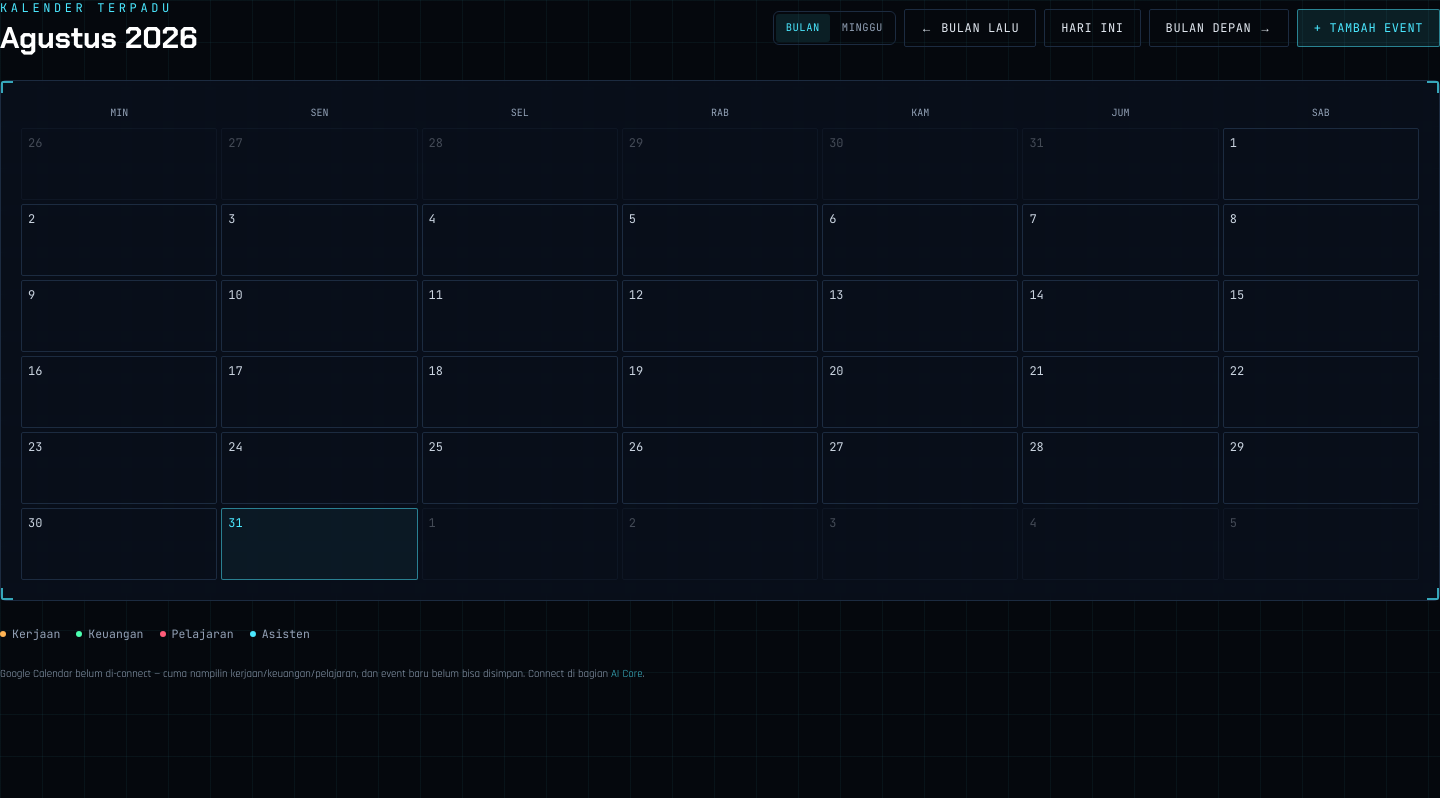
KalenderPage › shows a day's full item list inline in the week view, without opening a day modal
The image size is (1440, 798).
Click the button "Minggu" at [862, 28], box left=832, top=14, right=893, bottom=42
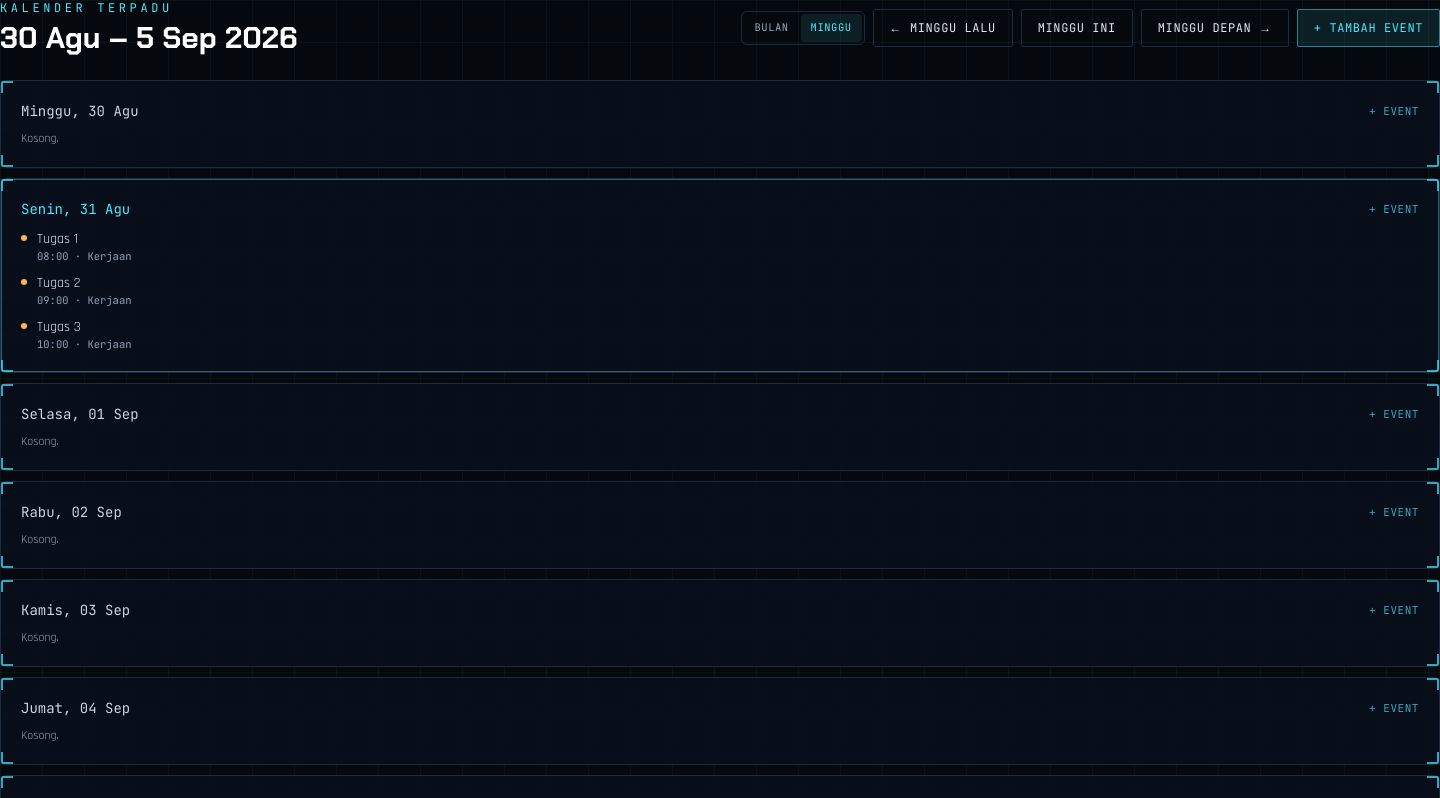
Result: the link "Tugas 1" is shown at left=37, top=230, right=78, bottom=248
Result: the link "Tugas 2" is shown at left=37, top=274, right=81, bottom=292
Result: the link "Tugas 3" is shown at left=37, top=318, right=81, bottom=336
